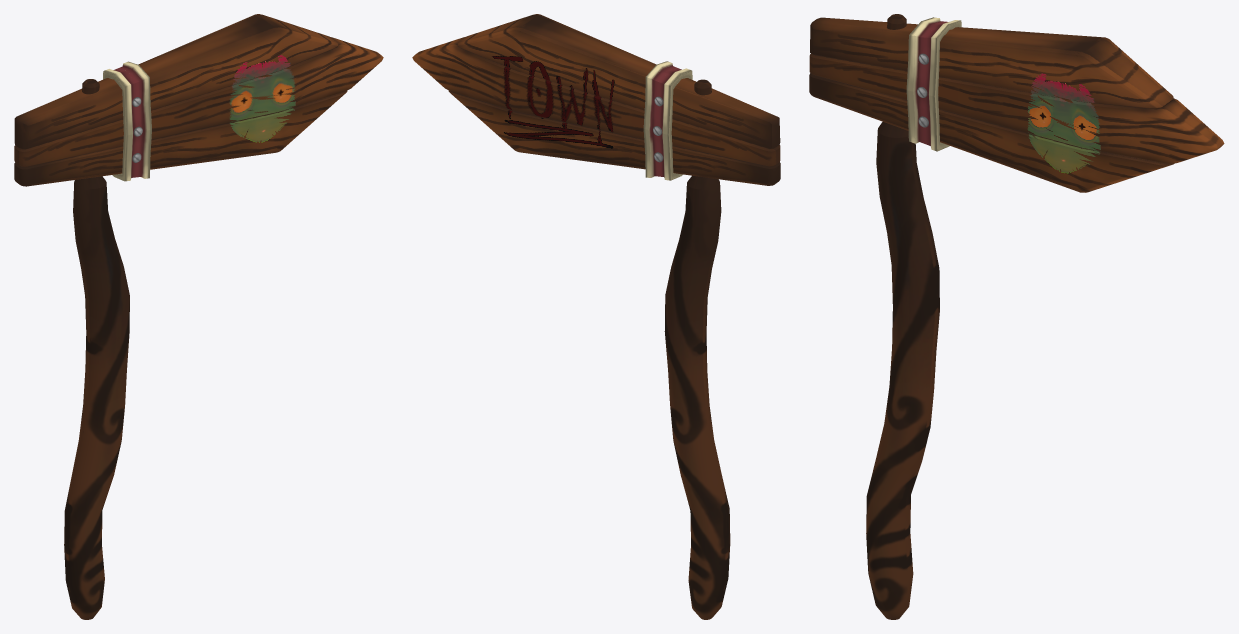
The model's file is Town_Sign_2.glb.
3 views of the same model, side by side, from view 1: azimuth 30°, elevation 25°; view 2: azimuth 150°, elevation 25°; view 3: azimuth 330°, elevation 25° (orthographic). The views are drawn at different scales.
Visible parts, largest first — view 1: Plane.001, Cylinder, Cube.001; view 2: Plane.001, Cylinder, Cube.001; view 3: Plane.001, Cylinder, Cube.001.
Boxes of the visible parts, x1=… form: Plane.001: x1=14, y1=14, x2=383, y2=186; Cylinder: x1=64, y1=79, x2=129, y2=619; Cube.001: x1=103, y1=61, x2=151, y2=181; Plane.001: x1=412, y1=14, x2=780, y2=185; Cylinder: x1=664, y1=79, x2=730, y2=619; Cube.001: x1=643, y1=61, x2=692, y2=180; Plane.001: x1=809, y1=17, x2=1224, y2=192; Cylinder: x1=866, y1=14, x2=939, y2=619; Cube.001: x1=906, y1=17, x2=961, y2=151.
Bounding box in the file's own units: 3.07 × 4.47 × 0.3796.
Materials: 2 (2 with a texture image).
